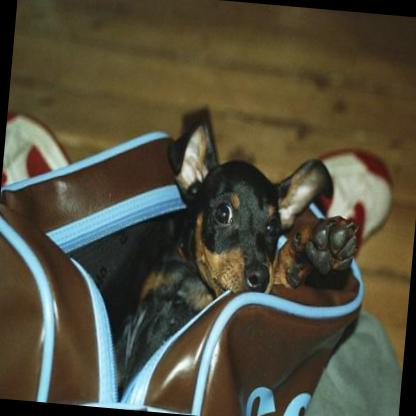miniature_pinscher: (101, 97, 371, 416)
